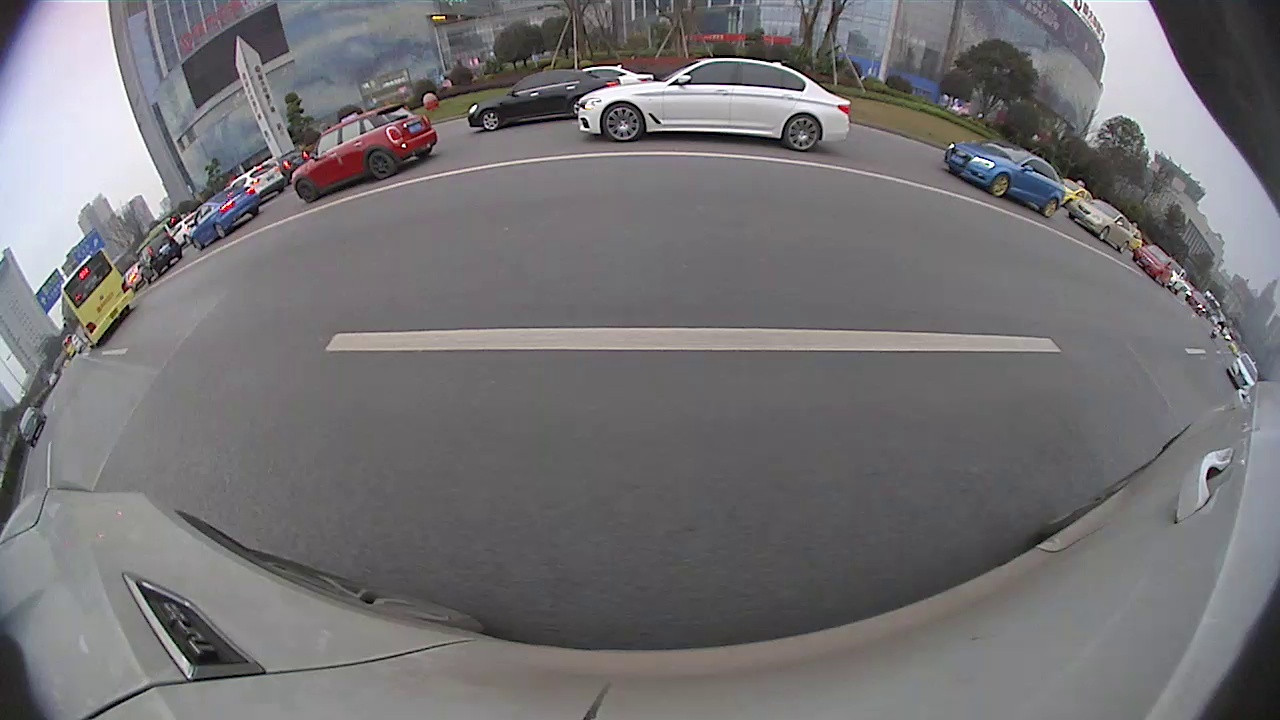bus: (59, 246, 137, 352)
car: (572, 53, 850, 154), (292, 102, 437, 206), (463, 65, 623, 138), (943, 138, 1061, 220), (191, 182, 257, 252), (1065, 199, 1134, 256), (233, 161, 285, 208), (577, 64, 656, 90)
front: (602, 99, 647, 143), (292, 176, 321, 203), (985, 174, 1011, 198), (478, 109, 503, 133)
rear: (780, 113, 820, 153), (366, 148, 400, 182), (1036, 198, 1060, 221)
